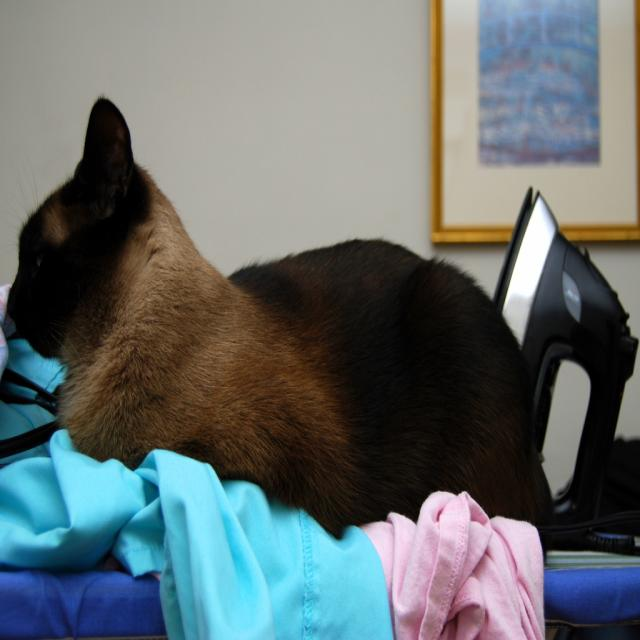Cat: (4, 92, 556, 566)
